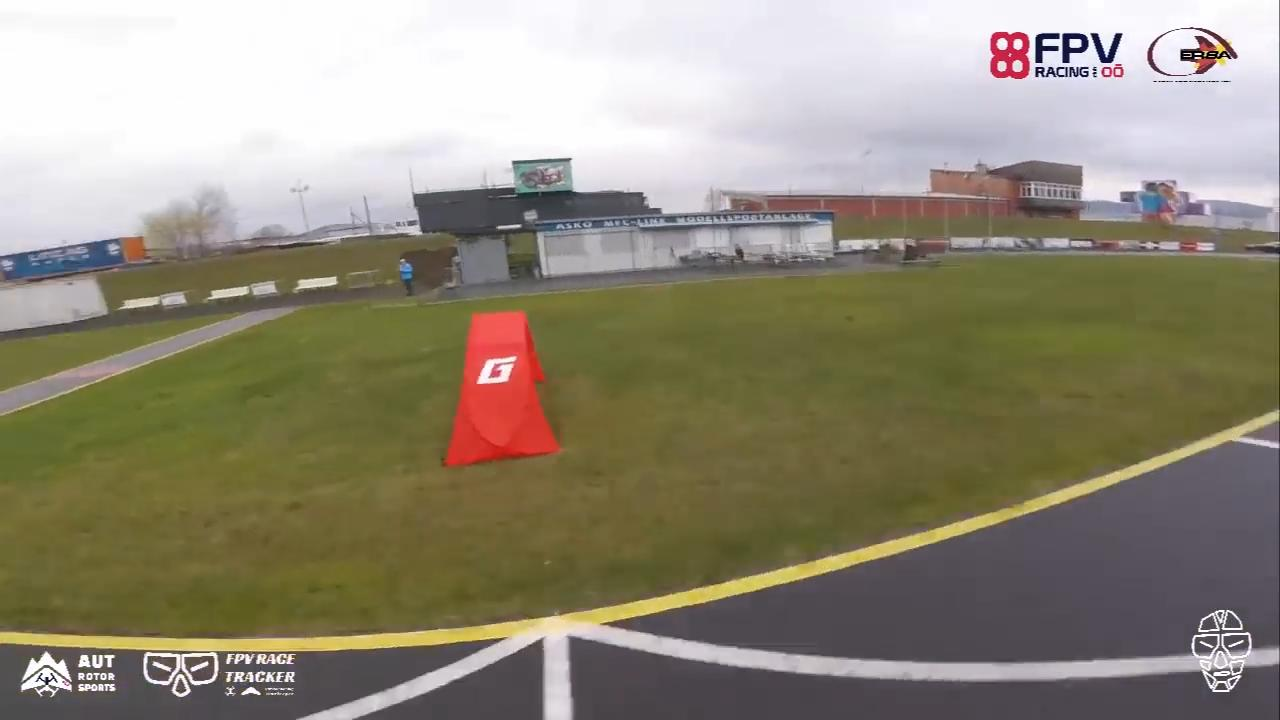gate: (439, 311, 561, 467)
